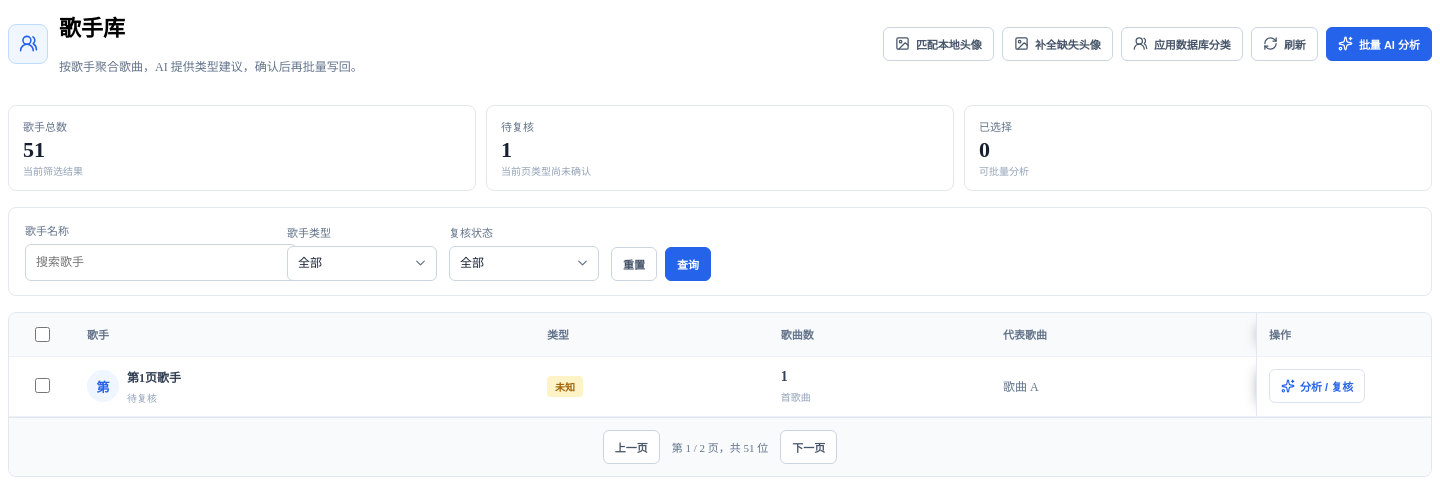
Test: ArtistLibraryView › loads the next and previous artist pages with server page results
Expected: the text "第 1 / 2 页，共 51 位" is shown, [672, 439, 768, 455]
Click the button "下一页".
click(809, 447)  # box [780, 430, 837, 464]
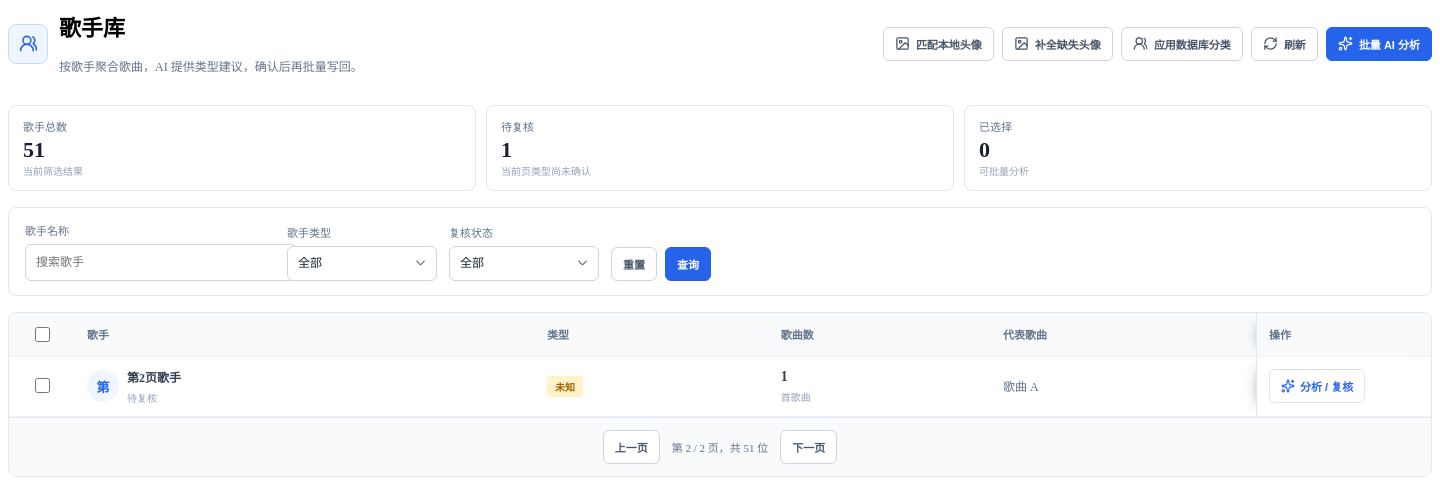
Result: the text "第2页歌手" is shown at [127, 368, 181, 386]
Click the button "上一页".
click(631, 447)  # box [603, 430, 660, 464]
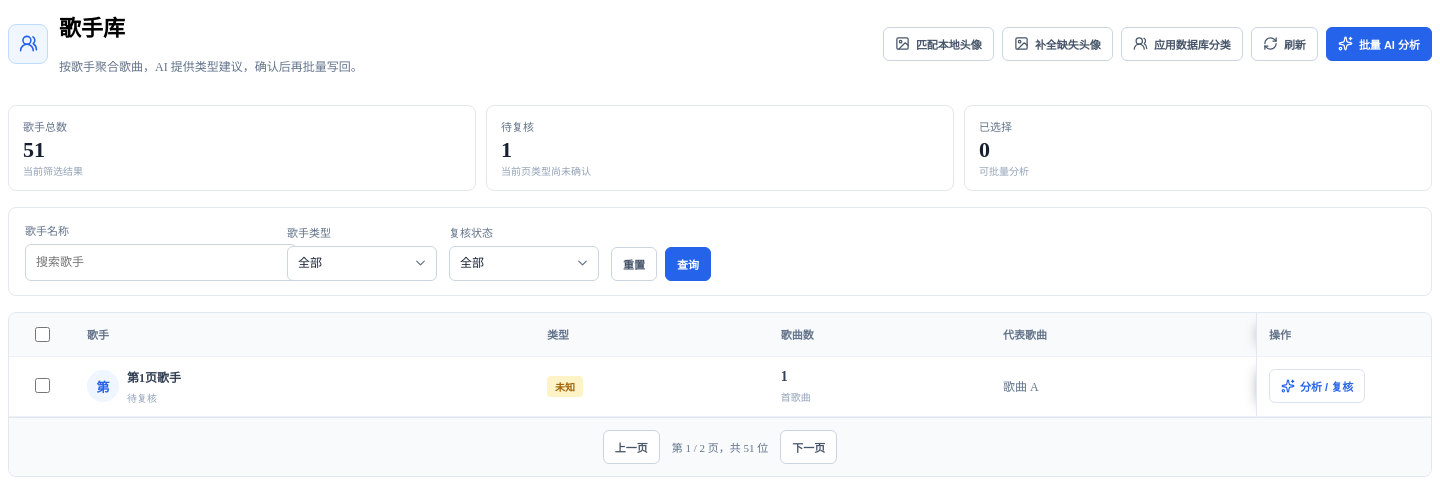
Result: the text "第 1 / 2 页，共 51 位" is shown at [672, 439, 768, 455]
Result: the text "第1页歌手" is shown at [127, 368, 181, 386]
